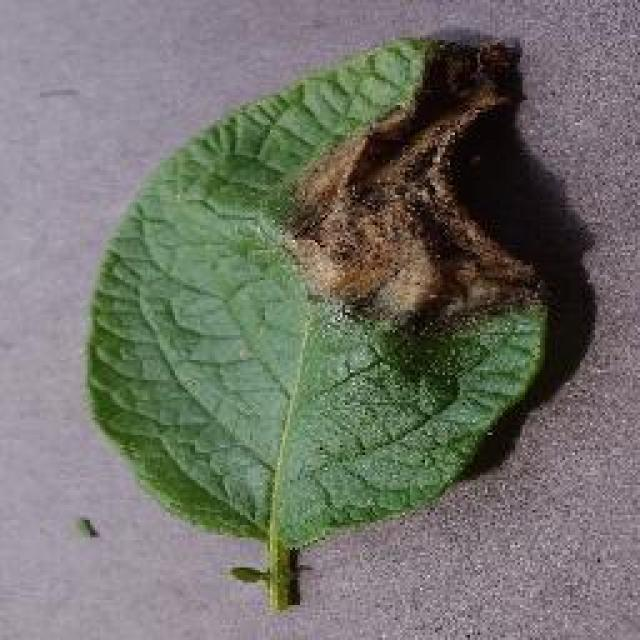late_blight: (80, 28, 555, 600)
